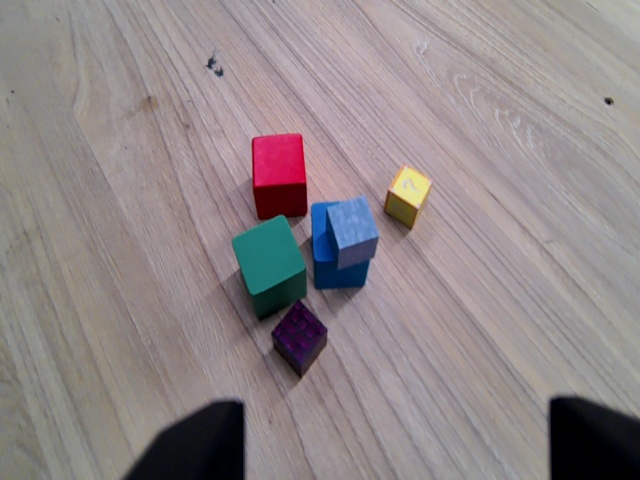brick: (267, 295, 332, 385)
lucky: (383, 162, 437, 235)
stone: (319, 192, 380, 274)
